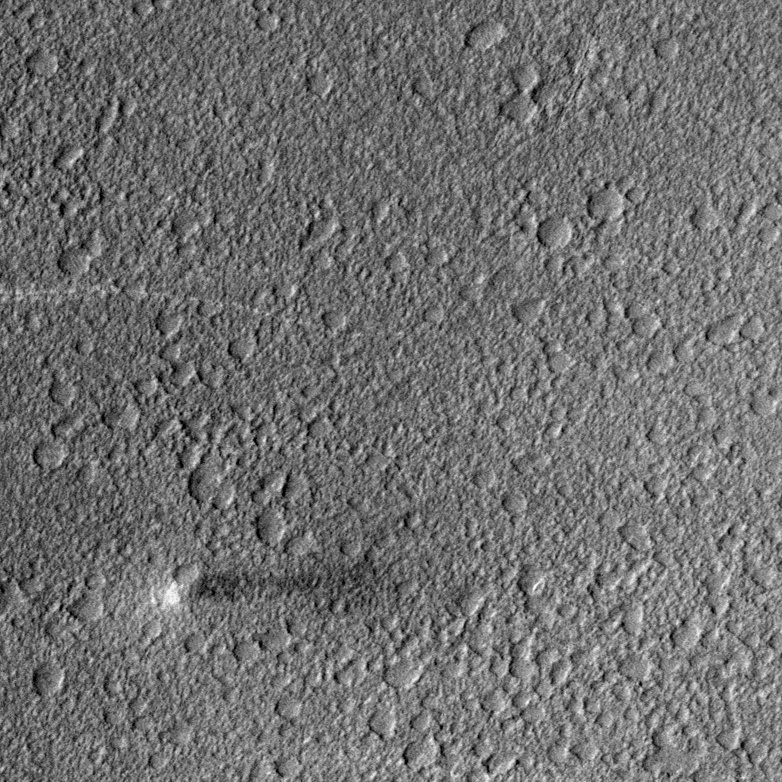dust_devil: (155, 562, 378, 615)
